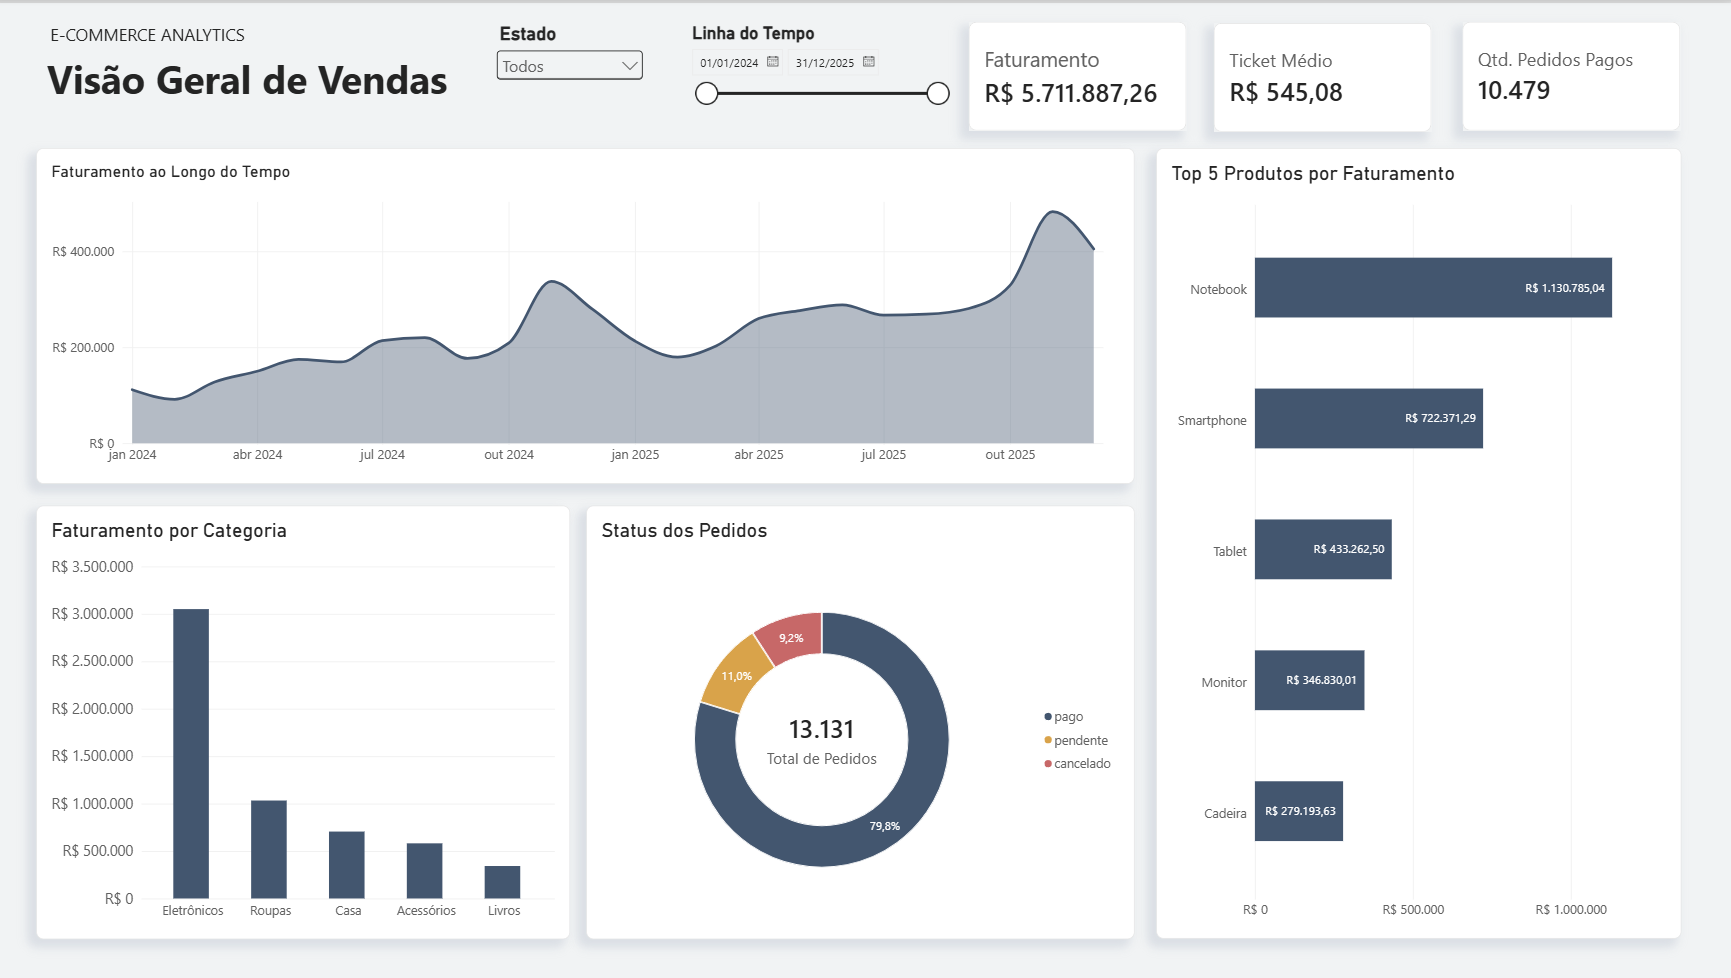

Layout of this report page (visuals, bound fields, positions):
{"tool":"powerbi","page":{"name":"Página 1","canvas":[1920,1080],"ordinal":0},"visuals":[{"type":"cardVisual","fields":{"Data":["itens_pedido.faturamento"]},"box":[1078.8,20.4,240.7,120.3],"z":0},{"type":"cardVisual","fields":{"Data":["itens_pedido.qtd_pedidos_pagos"]},"box":[1624.1,20.4,240.7,120.3],"z":1000},{"type":"textbox","box":[51,53.9,472.4,62.7],"z":2000},{"type":"textbox","box":[51,21.9,349.9,32.1],"z":3000},{"type":"cardVisual","fields":{"Data":["itens_pedido.ticket_medio"]},"box":[1350,21.9,240.7,120.3],"z":4000},{"type":"donutChart","title":"Status dos Pedidos","fields":{"Category":["pedidos.status"],"Y":["pedidos.total_pedidos"]},"box":[657.5,554,605,478.2],"z":5000},{"type":"columnChart","title":"Faturamento por Categoria","fields":{"Category":["produtos.categoria"],"Y":["itens_pedido.faturamento_total"]},"box":[51,554,589,478.2],"z":6000},{"type":"slicer","fields":{"Values":["clientes.estado"]},"box":[554,21.9,170.9,106.4],"z":8000},{"type":"slicer","fields":{"Values":["pedidos.data_pedido"]},"box":[766.8,21.9,294.8,144.8],"z":9000},{"type":"stackedAreaChart","title":"Faturamento ao Longo do Tempo","fields":{"Category":["pedidos.data_pedido.Variação.Hierarquia de datas.Ano","pedidos.data_pedido.Variação.Hierarquia de datas.Mês"],"Y":["itens_pedido.faturamento_total"]},"box":[51,160.4,1211.5,370.3],"z":10000},{"type":"barChart","title":"Top 5 Produtos por Faturamento","fields":{"Category":["produtos.nome"],"Y":["itens_pedido.faturamento_total"]},"box":[1285.9,160.4,579.1,872.1],"z":11000}]}

Visuals, with their boxes in screenshot pixels (x1, y1, x2, y2), scaled from the page's 1920x1080 canvas onto the 1731x978 screenshot:
cardVisual - itens_pedido.faturamento: Rect(973, 18, 1190, 127)
cardVisual - itens_pedido.qtd_pedidos_pagos: Rect(1464, 18, 1681, 127)
textbox: Rect(46, 49, 472, 106)
textbox: Rect(46, 20, 361, 49)
cardVisual - itens_pedido.ticket_medio: Rect(1217, 20, 1434, 129)
"Status dos Pedidos" donutChart: Rect(593, 502, 1138, 935)
"Faturamento por Categoria" columnChart: Rect(46, 502, 577, 935)
slicer - clientes.estado: Rect(499, 20, 654, 116)
slicer - pedidos.data_pedido: Rect(691, 20, 957, 151)
"Faturamento ao Longo do Tempo" stackedAreaChart: Rect(46, 145, 1138, 481)
"Top 5 Produtos por Faturamento" barChart: Rect(1159, 145, 1681, 935)
